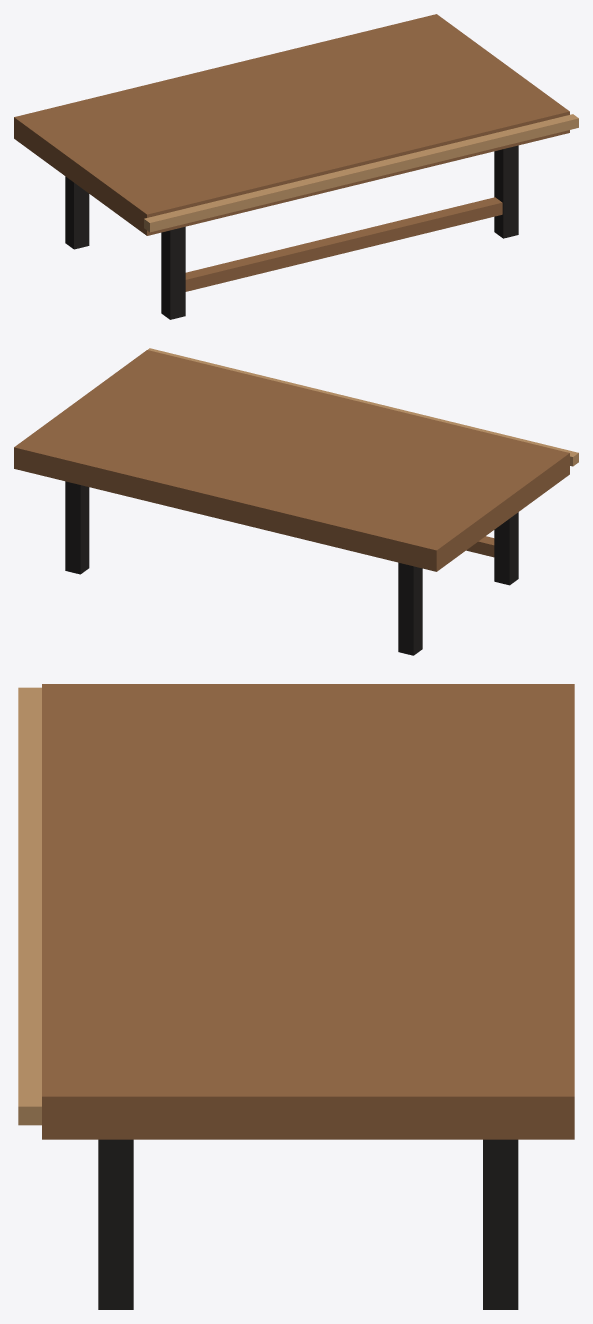
The model's file is artisan-workbench.glb.
3 renders of one model, top to bottom at view 1: azimuth 30°, elevation 25°; view 2: azimuth 150°, elevation 25°; view 3: azimuth 270°, elevation 25°, orthographic. The views are drawn at different scales.
Parts seen in each view (by area): view 1: bench-top, bench-front-edge, bench-crossbar, bench-leg--1.3-0.65, bench-leg-1.3-0.65, bench-leg--1.3--0.65; view 2: bench-top, bench-leg--1.3--0.65, bench-leg-1.3--0.65, bench-leg--1.3-0.65, bench-front-edge; view 3: bench-top, bench-front-edge, bench-leg-1.3-0.65, bench-leg-1.3--0.65.
Boxes of the visible parts, <box> form: bench-top: <box>14,14,569,235</box>; bench-front-edge: <box>144,114,578,232</box>; bench-crossbar: <box>185,197,502,291</box>; bench-leg--1.3-0.65: <box>161,226,185,319</box>; bench-leg-1.3-0.65: <box>494,145,518,238</box>; bench-leg--1.3--0.65: <box>65,176,89,249</box>; bench-top: <box>14,350,569,571</box>; bench-leg--1.3--0.65: <box>398,562,422,655</box>; bench-leg-1.3--0.65: <box>65,481,89,574</box>; bench-leg--1.3-0.65: <box>494,512,518,585</box>; bench-front-edge: <box>148,348,578,466</box>; bench-top: <box>42,684,574,1139</box>; bench-front-edge: <box>18,687,41,1125</box>; bench-leg-1.3-0.65: <box>98,1139,133,1309</box>; bench-leg-1.3--0.65: <box>483,1139,518,1309</box>.
Bounding box in the file's own units: 3.35 × 0.93 × 1.88.
